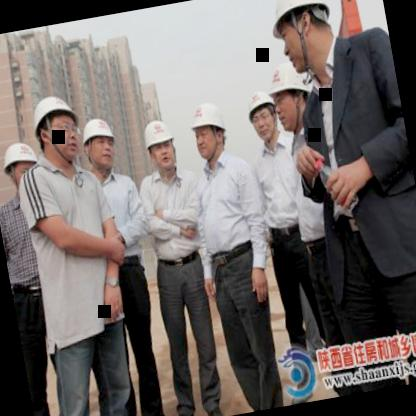helmet: (264, 0, 343, 77), (21, 86, 88, 172), (258, 54, 326, 138), (182, 92, 235, 166), (72, 113, 123, 180), (136, 110, 183, 180), (0, 136, 47, 203), (242, 83, 284, 148)
